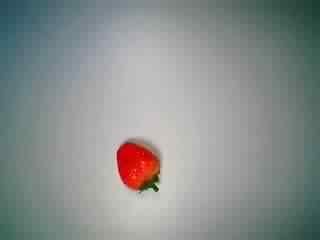strawberry: (107, 135, 169, 199)
